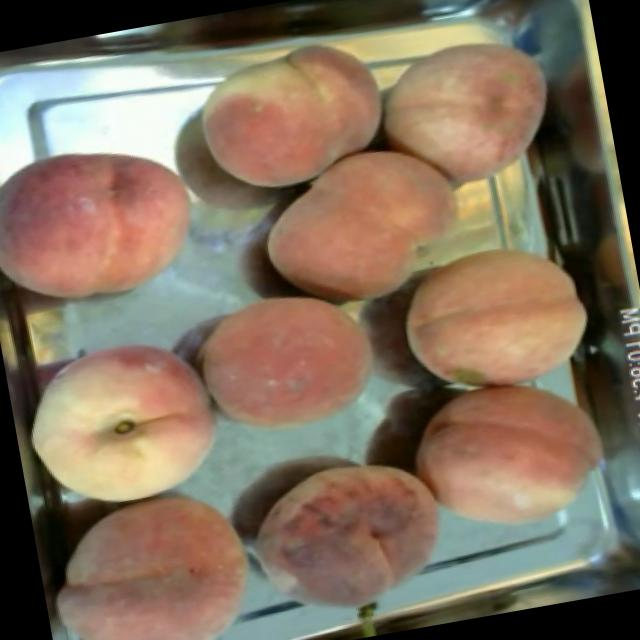Fruit: (217, 428, 471, 640), (237, 118, 480, 331), (2, 313, 244, 525), (172, 7, 410, 218), (352, 8, 581, 212), (389, 364, 627, 556), (0, 119, 215, 327), (29, 465, 284, 640), (169, 264, 394, 462), (379, 218, 605, 406)
